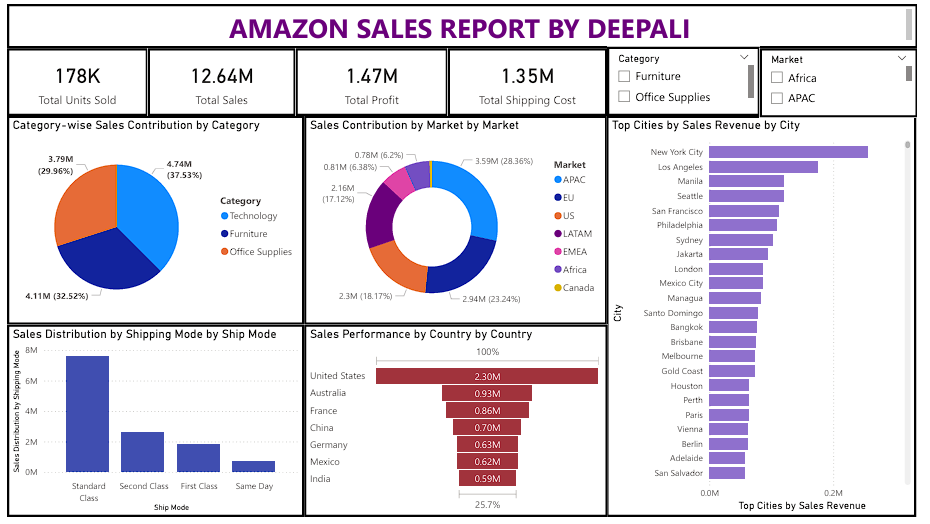

This screenshot's page, from the dashboard's own definition file:
{"tool":"powerbi","page":{"name":"Page 1","canvas":[1280,720],"ordinal":0},"visuals":[{"type":"pieChart","fields":{"Category":["Orders.Category"],"Y":["Sum(Orders.Sales)"]},"box":[0,156.9,417.6,292.9],"z":0},{"type":"donutChart","fields":{"Category":["Orders.Market"],"Y":["Sum(Orders.Sales)"]},"box":[417.8,157.1,425.9,293.1],"z":1000},{"type":"clusteredColumnChart","fields":{"Category":["Orders.Ship Mode"],"Y":["Sum(Orders.Sales)"]},"box":[0,449.8,417.6,270.2],"z":2000},{"type":"clusteredBarChart","fields":{"Category":["Orders.City"],"Y":["Sum(Orders.Sales)"]},"box":[842.8,156.9,436.5,563.2],"z":3000},{"type":"funnel","fields":{"Category":["Orders.Country"],"Y":["Sum(Orders.Sales)"]},"box":[417.6,449.8,427.1,270.2],"z":4000},{"type":"textbox","box":[0,0,1280.8,61.5],"z":5000},{"type":"card","fields":{"Values":["Sum(Orders.Quantity)"]},"box":[0,61.5,197.5,95.5],"z":6000},{"type":"card","fields":{"Values":["Sum(Orders.Sales)"]},"box":[197.5,61.5,208.9,95.5],"z":7000},{"type":"card","fields":{"Values":["Sum(Orders.Profit)"]},"box":[406.4,61.5,213.7,95.5],"z":8000},{"type":"card","fields":{"Values":["Sum(Orders.Shipping Cost)"]},"box":[620.2,61.5,223.5,95.5],"z":9000},{"type":"slicer","fields":{"Values":["Orders.Category"]},"box":[843.6,59.9,215.4,97.2],"z":10000},{"type":"slicer","fields":{"Values":["Orders.Market"]},"box":[1059,61.5,221.8,97.2],"z":11000}]}

Visuals, with their boxes in screenshot pixels (x1, y1, x2, y2), scaled from the page's 1280x720 canvas onto the 930x524 screenshot:
pieChart - Orders.Category x Sum(Orders.Sales): rect(0, 114, 303, 327)
donutChart - Orders.Market x Sum(Orders.Sales): rect(304, 114, 613, 328)
clusteredColumnChart - Orders.Ship Mode x Sum(Orders.Sales): rect(0, 327, 303, 523)
clusteredBarChart - Orders.City x Sum(Orders.Sales): rect(612, 114, 929, 523)
funnel - Orders.Country x Sum(Orders.Sales): rect(303, 327, 614, 523)
textbox: rect(0, 0, 929, 45)
card - Sum(Orders.Quantity): rect(0, 45, 143, 114)
card - Sum(Orders.Sales): rect(143, 45, 295, 114)
card - Sum(Orders.Profit): rect(295, 45, 451, 114)
card - Sum(Orders.Shipping Cost): rect(451, 45, 613, 114)
slicer - Orders.Category: rect(613, 44, 769, 114)
slicer - Orders.Market: rect(769, 45, 929, 115)
